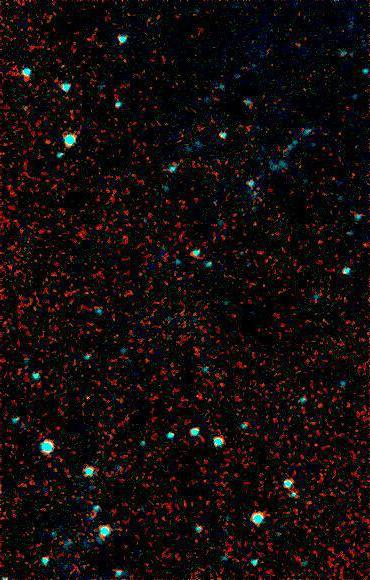star: (33, 126, 63, 156)
